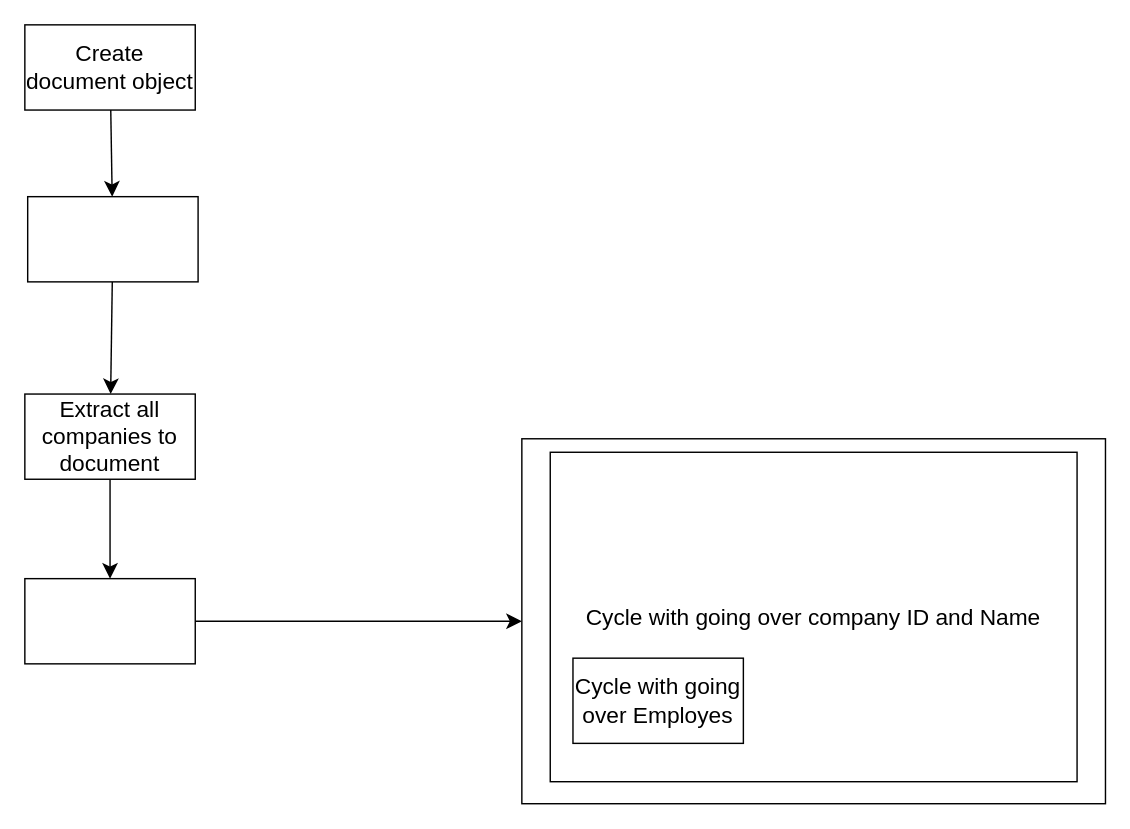
This 1130x829 diagram has some shape labels left out. The shapes that lost their labels are listed below. From the top down, each one's centre as x and y in pixels, then its label:
(112,238): LoadFile
(109,620): Print out the information
